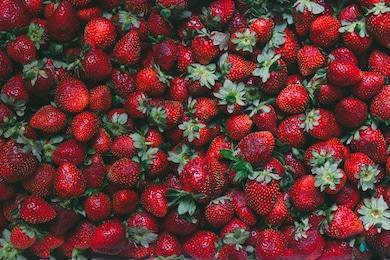Fresa: (243, 167, 281, 218), (1, 133, 38, 185), (323, 202, 367, 244), (28, 99, 71, 138), (52, 157, 89, 202), (237, 129, 279, 168), (52, 74, 91, 115), (342, 149, 380, 189), (15, 192, 58, 227), (301, 104, 339, 143), (325, 56, 366, 92), (274, 81, 316, 116), (218, 51, 262, 84), (181, 227, 224, 260), (111, 27, 145, 68), (248, 100, 283, 139), (1, 70, 33, 111), (138, 182, 171, 221), (105, 156, 144, 188), (183, 63, 218, 98), (5, 31, 38, 68), (133, 65, 170, 98), (294, 41, 326, 78), (223, 109, 256, 144), (365, 4, 390, 49), (313, 165, 348, 197), (153, 226, 184, 260), (153, 98, 184, 131), (226, 25, 260, 55), (121, 88, 151, 121), (181, 118, 211, 151), (87, 83, 115, 115), (247, 15, 278, 43)
